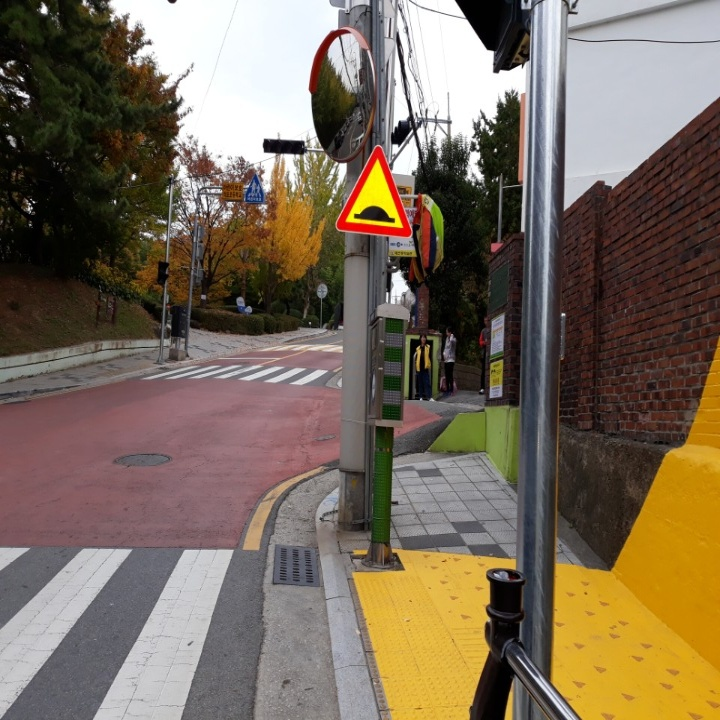bump: (343, 203, 403, 225)
